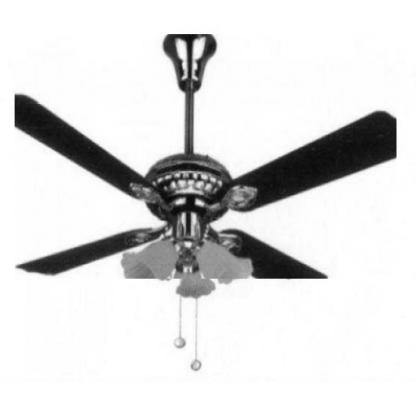ceiling-fan: (15, 34, 397, 280)
